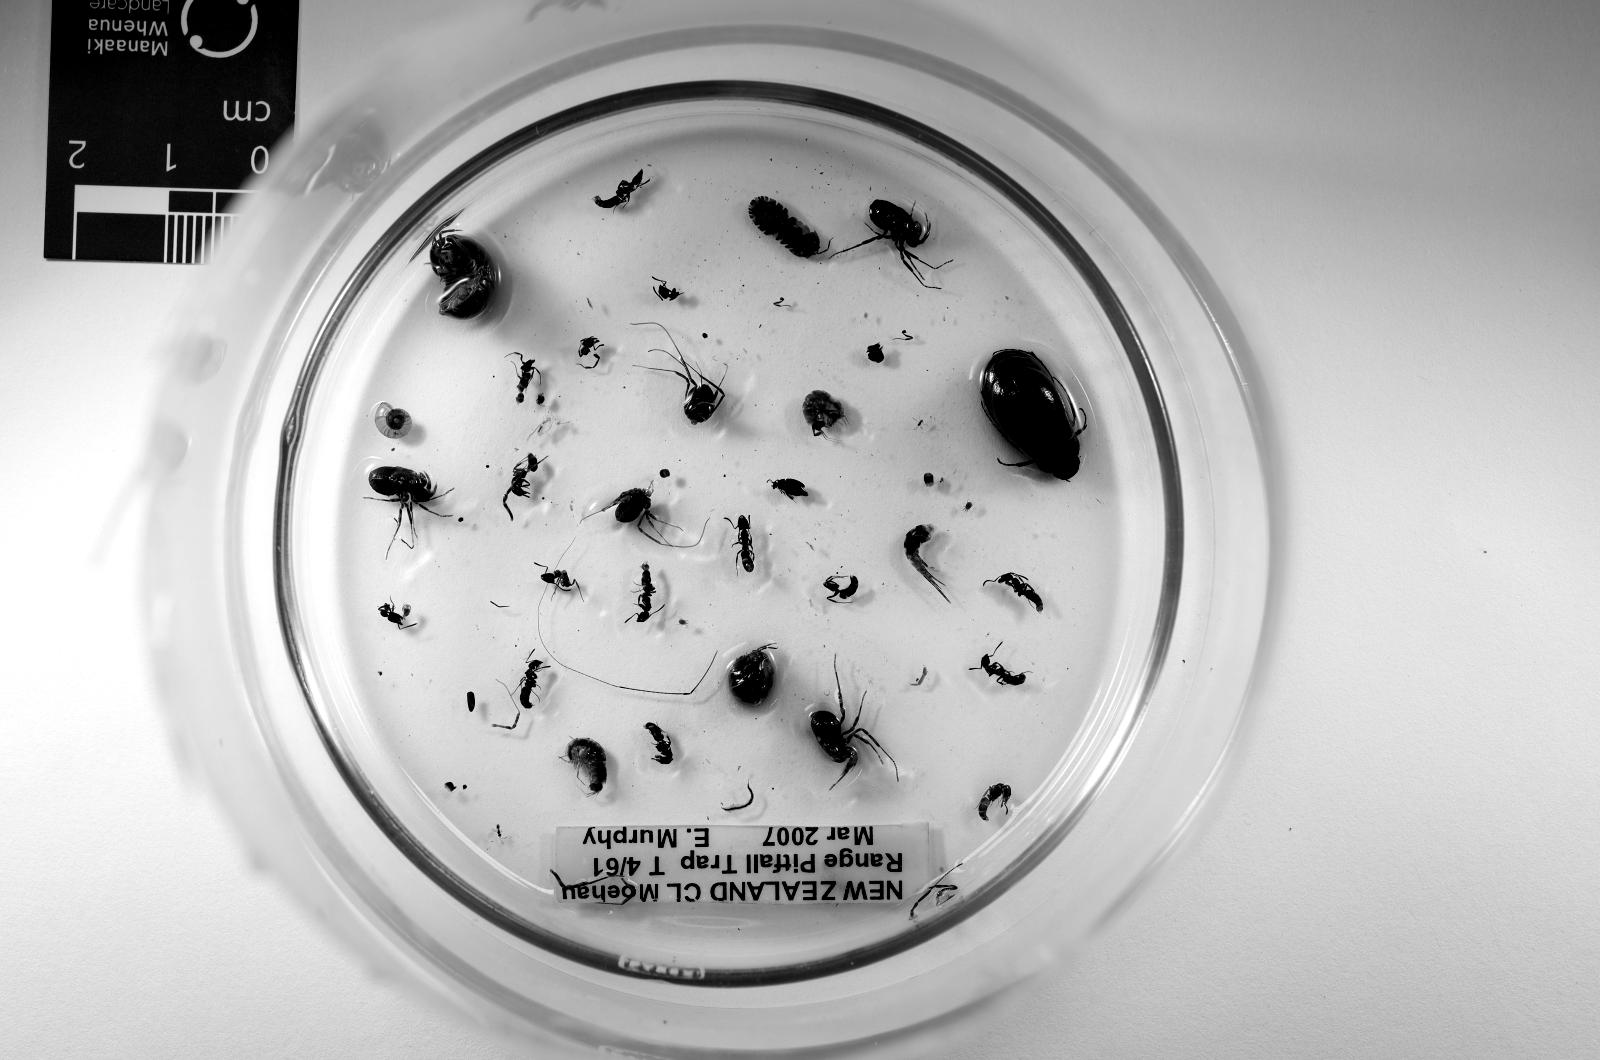acari: (966, 503, 972, 509)
amphipoda: (569, 739, 607, 795), (803, 392, 843, 435)
coleoptera: (982, 348, 1084, 481), (772, 478, 807, 500)
formicidae: (984, 571, 1044, 612), (634, 562, 660, 625), (519, 658, 550, 707), (982, 655, 1025, 686), (978, 783, 1012, 820), (510, 453, 538, 497), (516, 354, 538, 403), (734, 516, 753, 571), (540, 568, 582, 593), (647, 724, 672, 764), (616, 170, 643, 205), (825, 575, 860, 602), (378, 602, 415, 627)
gastropoda: (375, 403, 413, 438)
isopoda: (432, 233, 494, 319), (750, 195, 822, 258), (728, 649, 775, 705)
opiliones: (809, 658, 890, 780), (860, 199, 938, 286), (369, 466, 447, 543), (669, 344, 725, 426), (609, 485, 672, 547)
